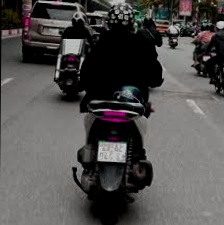Bien-so: (97, 140, 127, 163), (49, 27, 59, 36), (202, 55, 210, 61)
